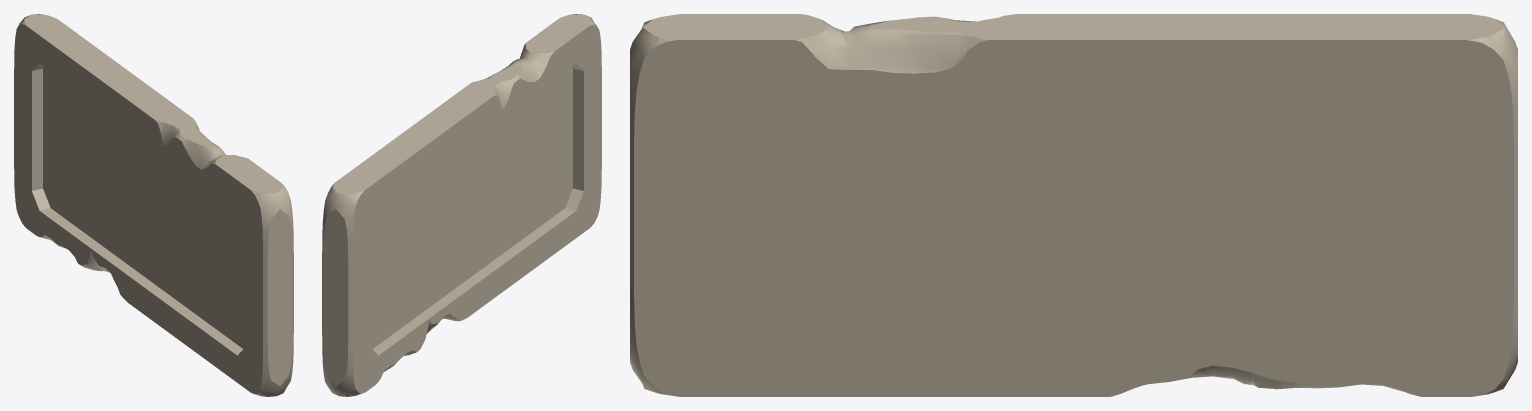
The model's file is Name_field_Sun.fbx.
3 views of the same model, side by side, from view 1: azimuth 30°, elevation 25°; view 2: azimuth 150°, elevation 25°; view 3: azimuth 270°, elevation 25° (orthographic). The views are drawn at different scales.
Visible parts, largest first — view 1: Name_Slot_1.001_dmg; view 2: Name_Slot_1.001_dmg; view 3: Name_Slot_1.001_dmg.
Part boxes in pixels (<box>): Name_Slot_1.001_dmg: <box>14,14,293,396</box>; Name_Slot_1.001_dmg: <box>322,14,601,396</box>; Name_Slot_1.001_dmg: <box>630,14,1517,396</box>.
Bounding box in the file's own units: 7.92 × 50.5 × 114.
